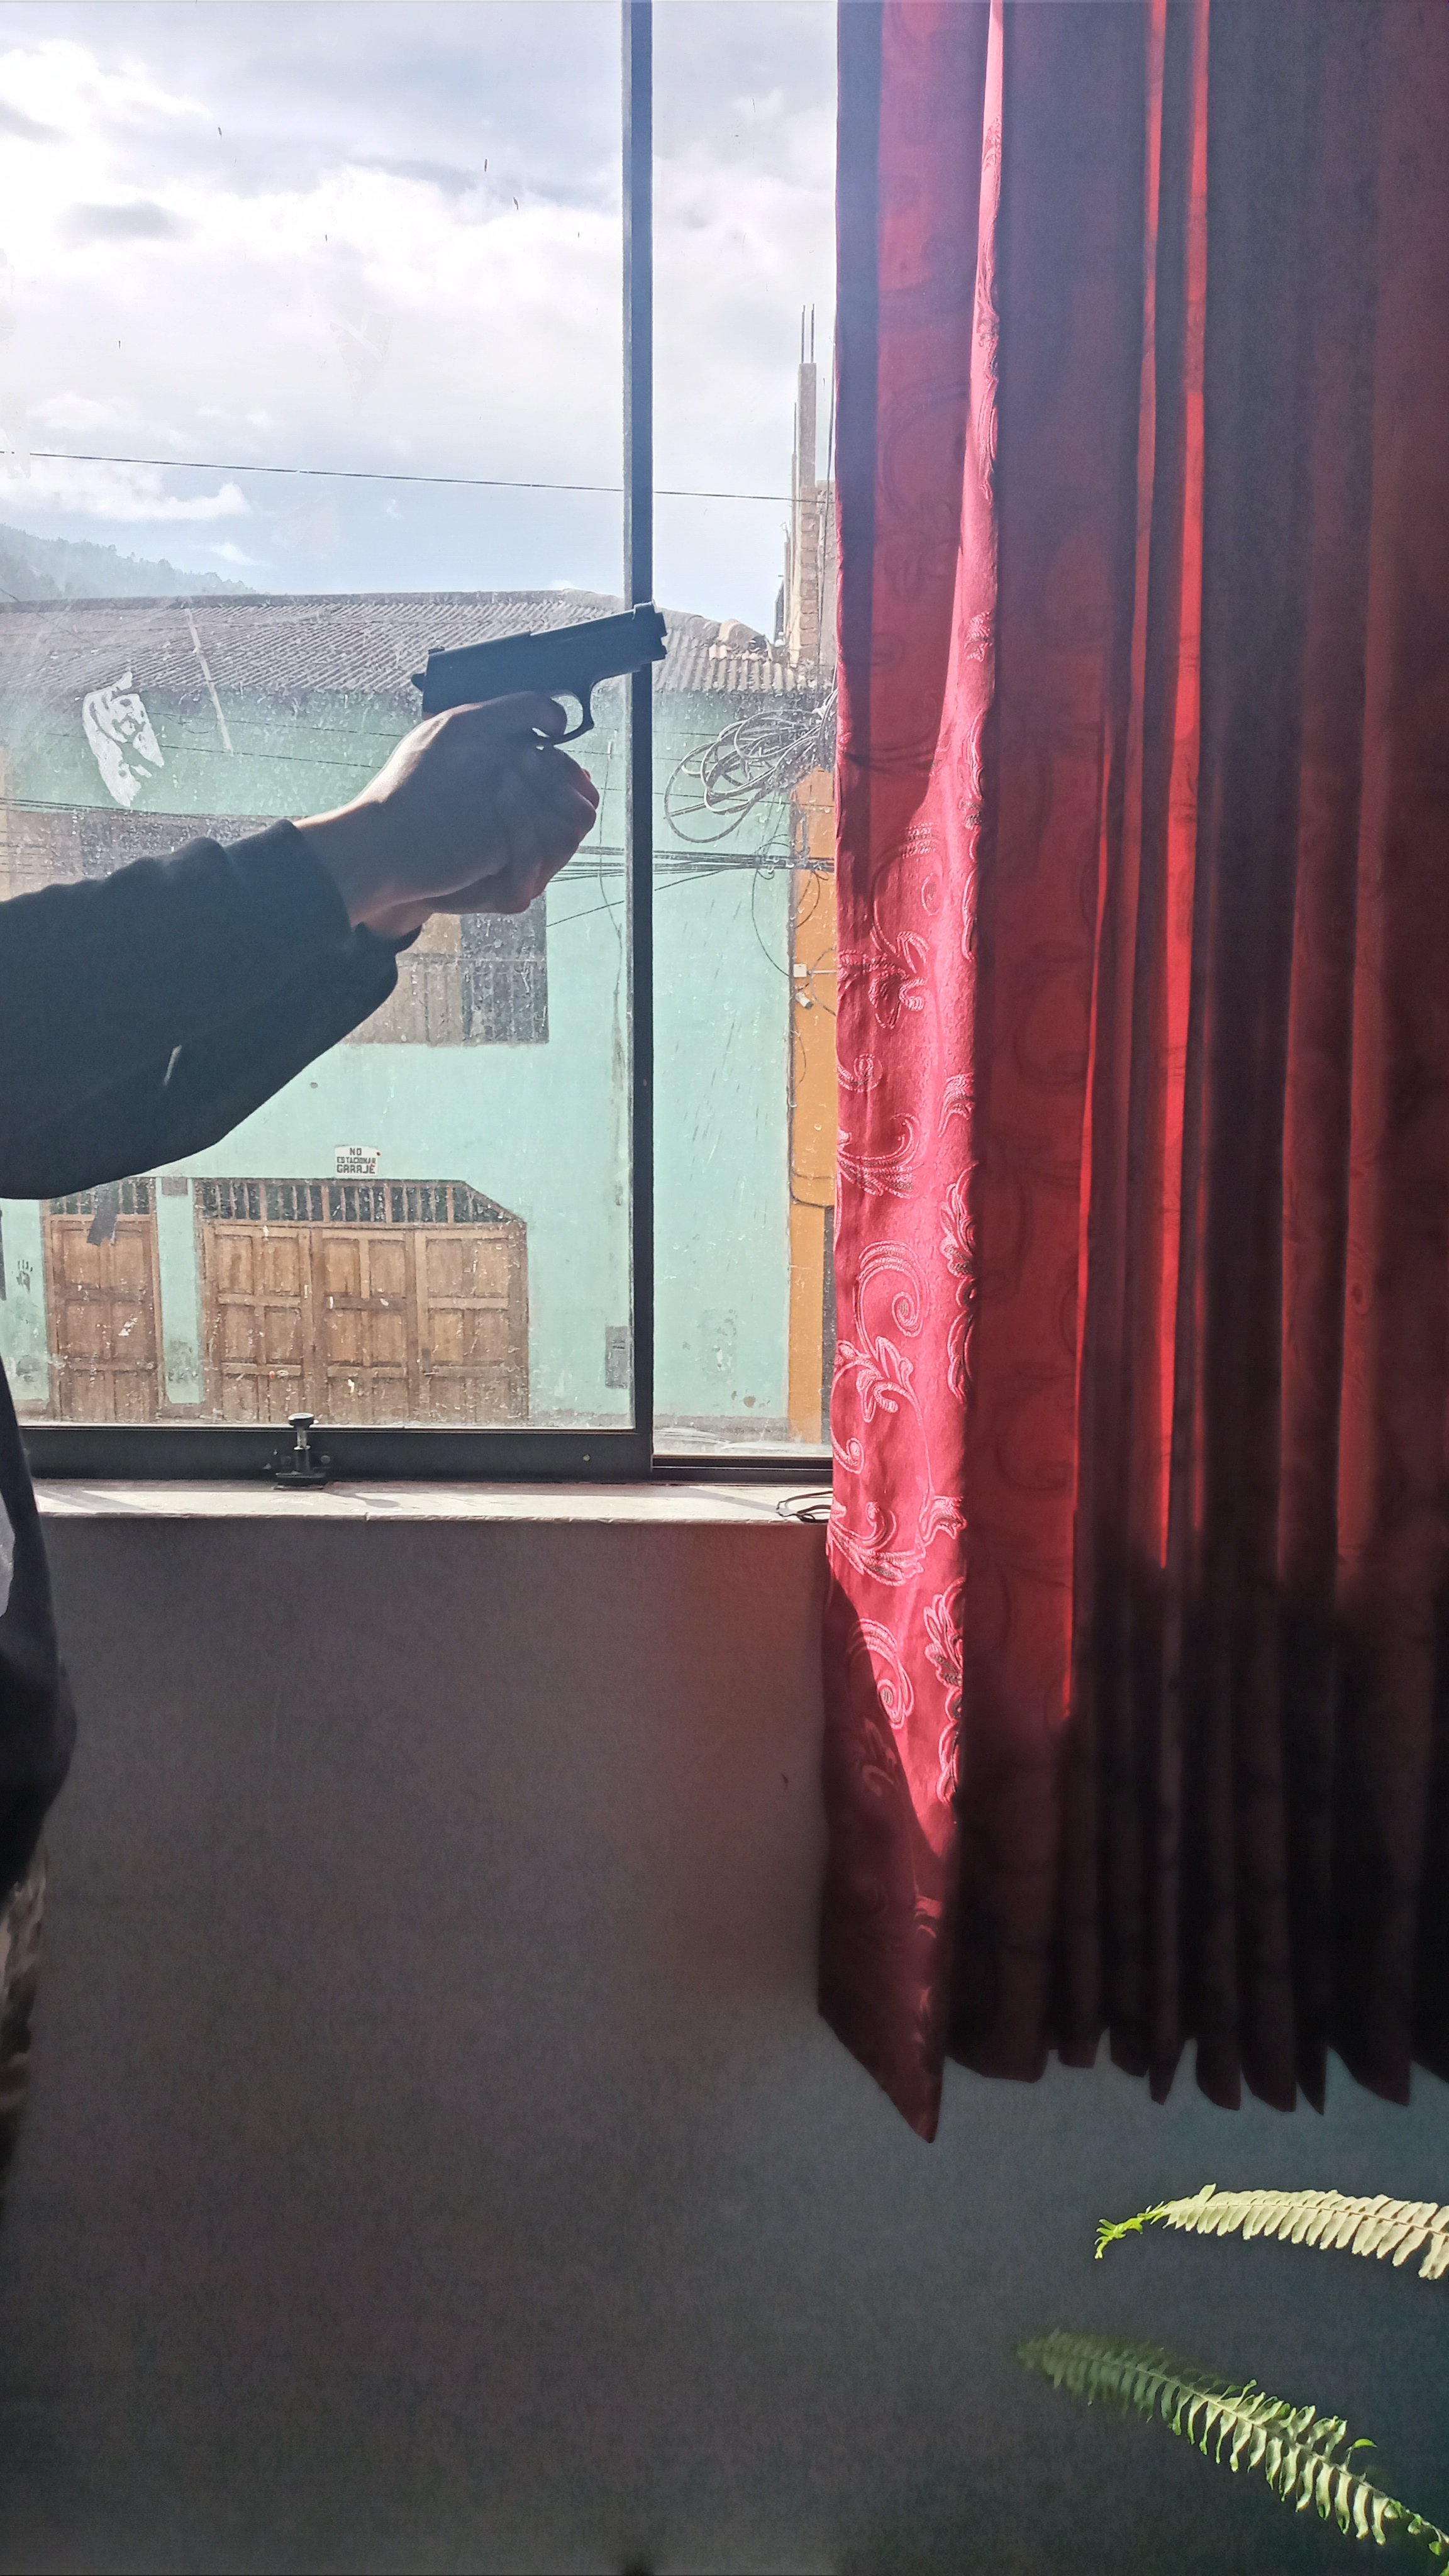Arma: (419, 596, 671, 729)
